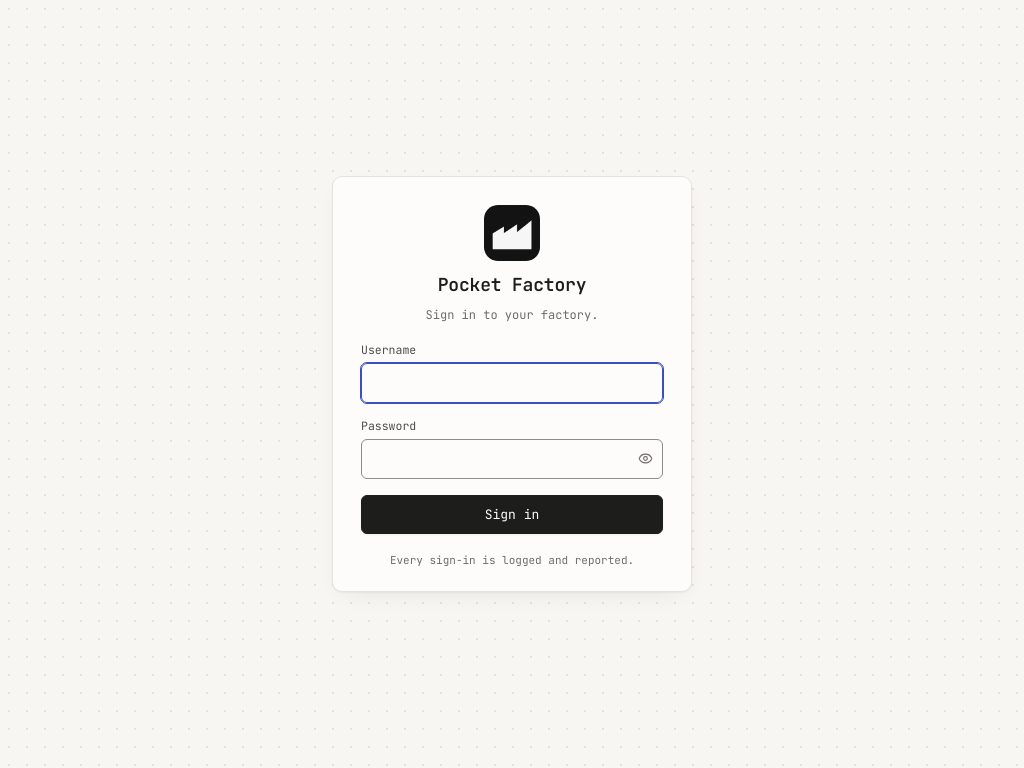
AuthProvider › reveals the password on request
Check: the button "Sign in" is shown, box [361, 495, 663, 534]
In the password field labelled "Password": [512, 459] box [361, 439, 663, 479], type "secret"
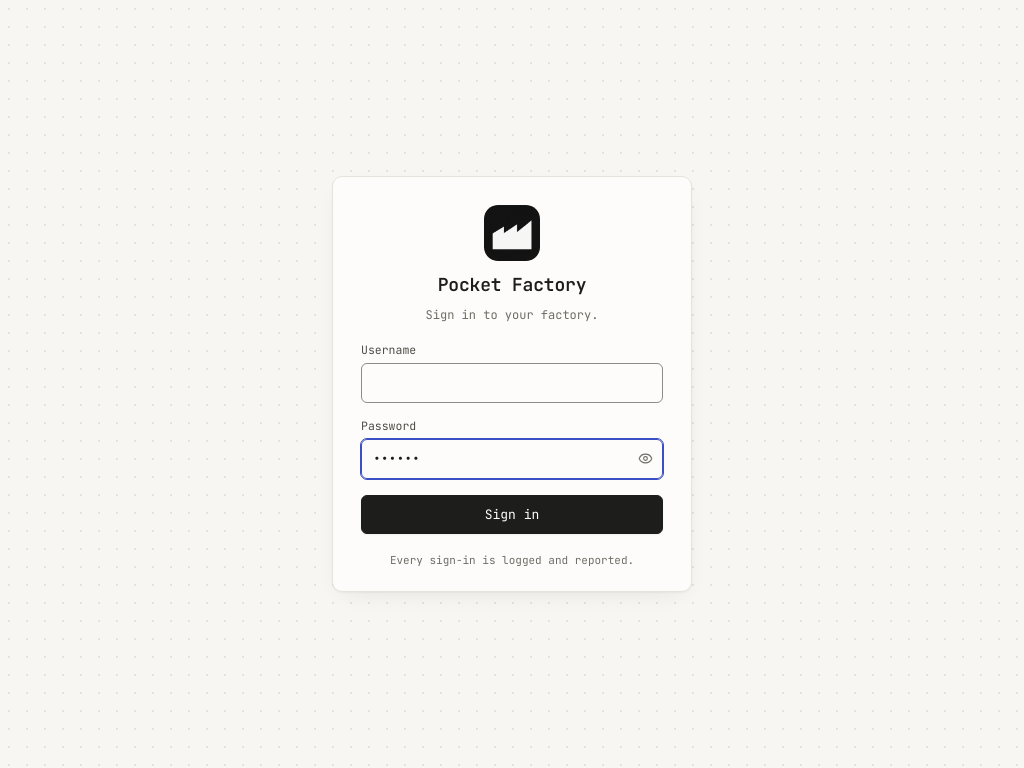
Click the button named "Show password": [645, 459] box [631, 445, 659, 473]
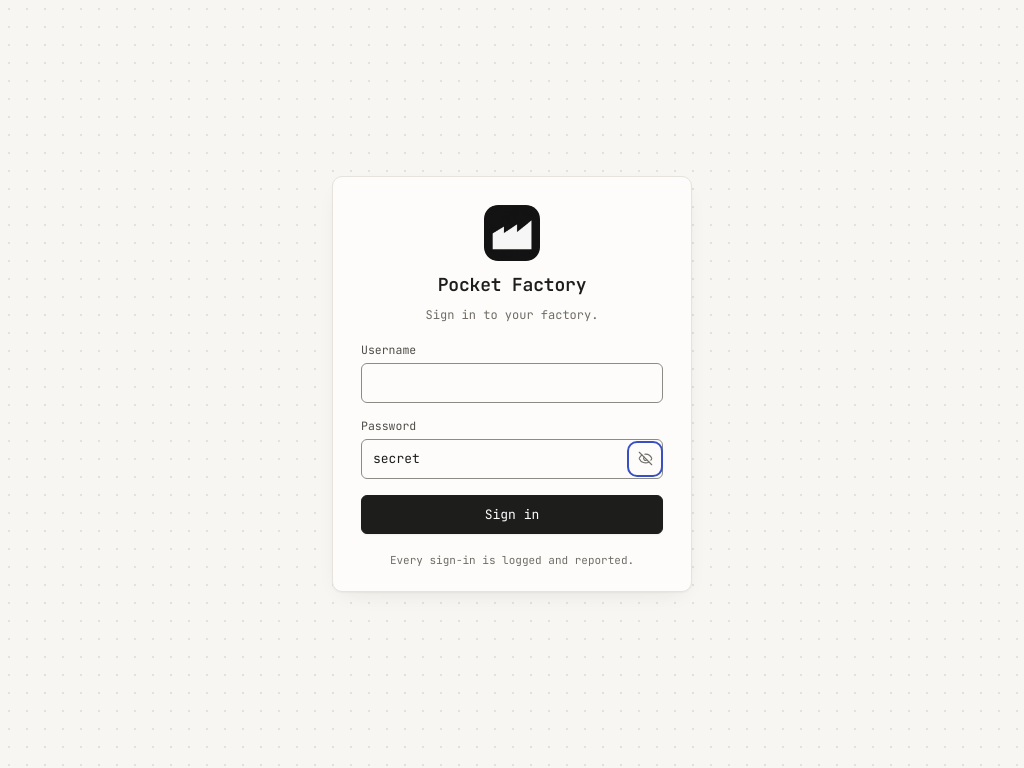
Check: the field labelled "Password" shows its text, box [361, 439, 663, 479]
